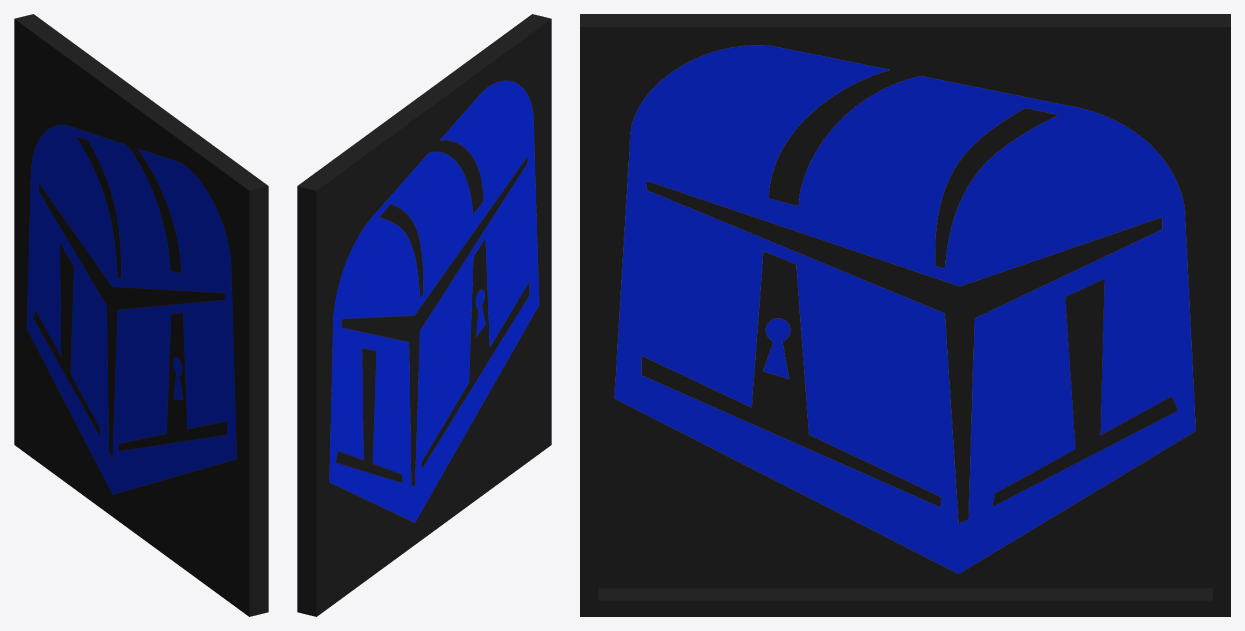
Rendered from ChestKey.obj.
3 views of the same model, side by side, from view 1: azimuth 30°, elevation 25°; view 2: azimuth 150°, elevation 25°; view 3: azimuth 270°, elevation 25° (orthographic). The views are drawn at different scales.
Parts seen in each view (by area): view 1: pCube2; view 2: pCube2; view 3: pCube2.
Boxes of the visible parts, x1,y1,x2,y2 form: pCube2: (14,14,268,616); pCube2: (297,14,551,616); pCube2: (580,14,1230,616).
Size of the model in its own units: 0.1608 by 3.38 by 3.38.
Materials: 1 (1 with a texture image).
